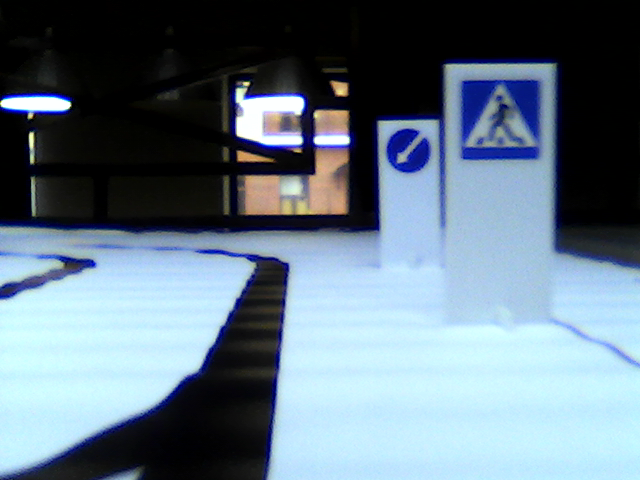pesh: (460, 77, 541, 160)
prep: (385, 125, 433, 175)
